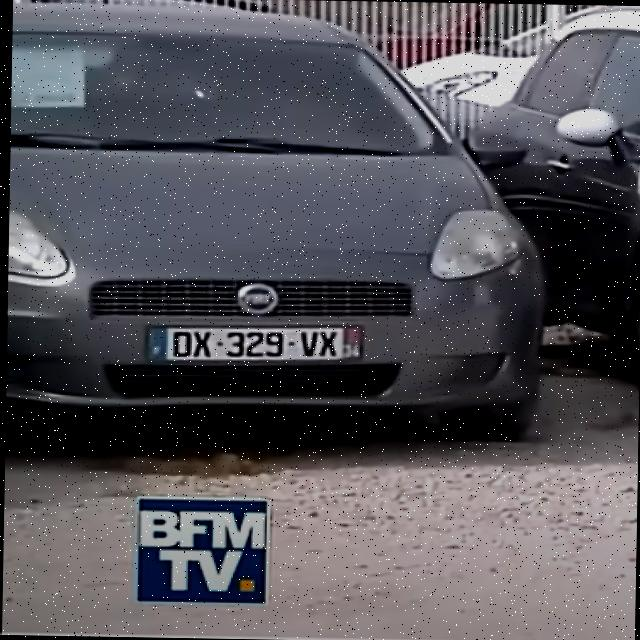EU: (143, 322, 368, 362)
France: (141, 330, 173, 363)
